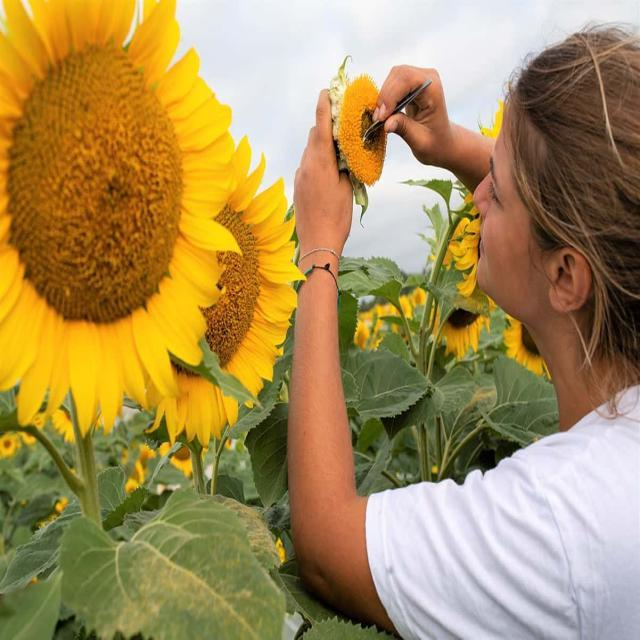sunflower: (0, 0, 237, 441), (143, 133, 306, 453), (450, 89, 506, 303), (340, 73, 387, 187), (430, 292, 490, 359), (502, 313, 547, 380), (158, 439, 212, 483), (15, 400, 45, 442), (50, 400, 79, 442), (118, 454, 146, 490), (131, 443, 158, 474), (358, 304, 382, 338), (0, 430, 21, 457), (354, 320, 372, 350), (388, 296, 412, 317), (391, 318, 408, 341), (412, 285, 427, 308)
